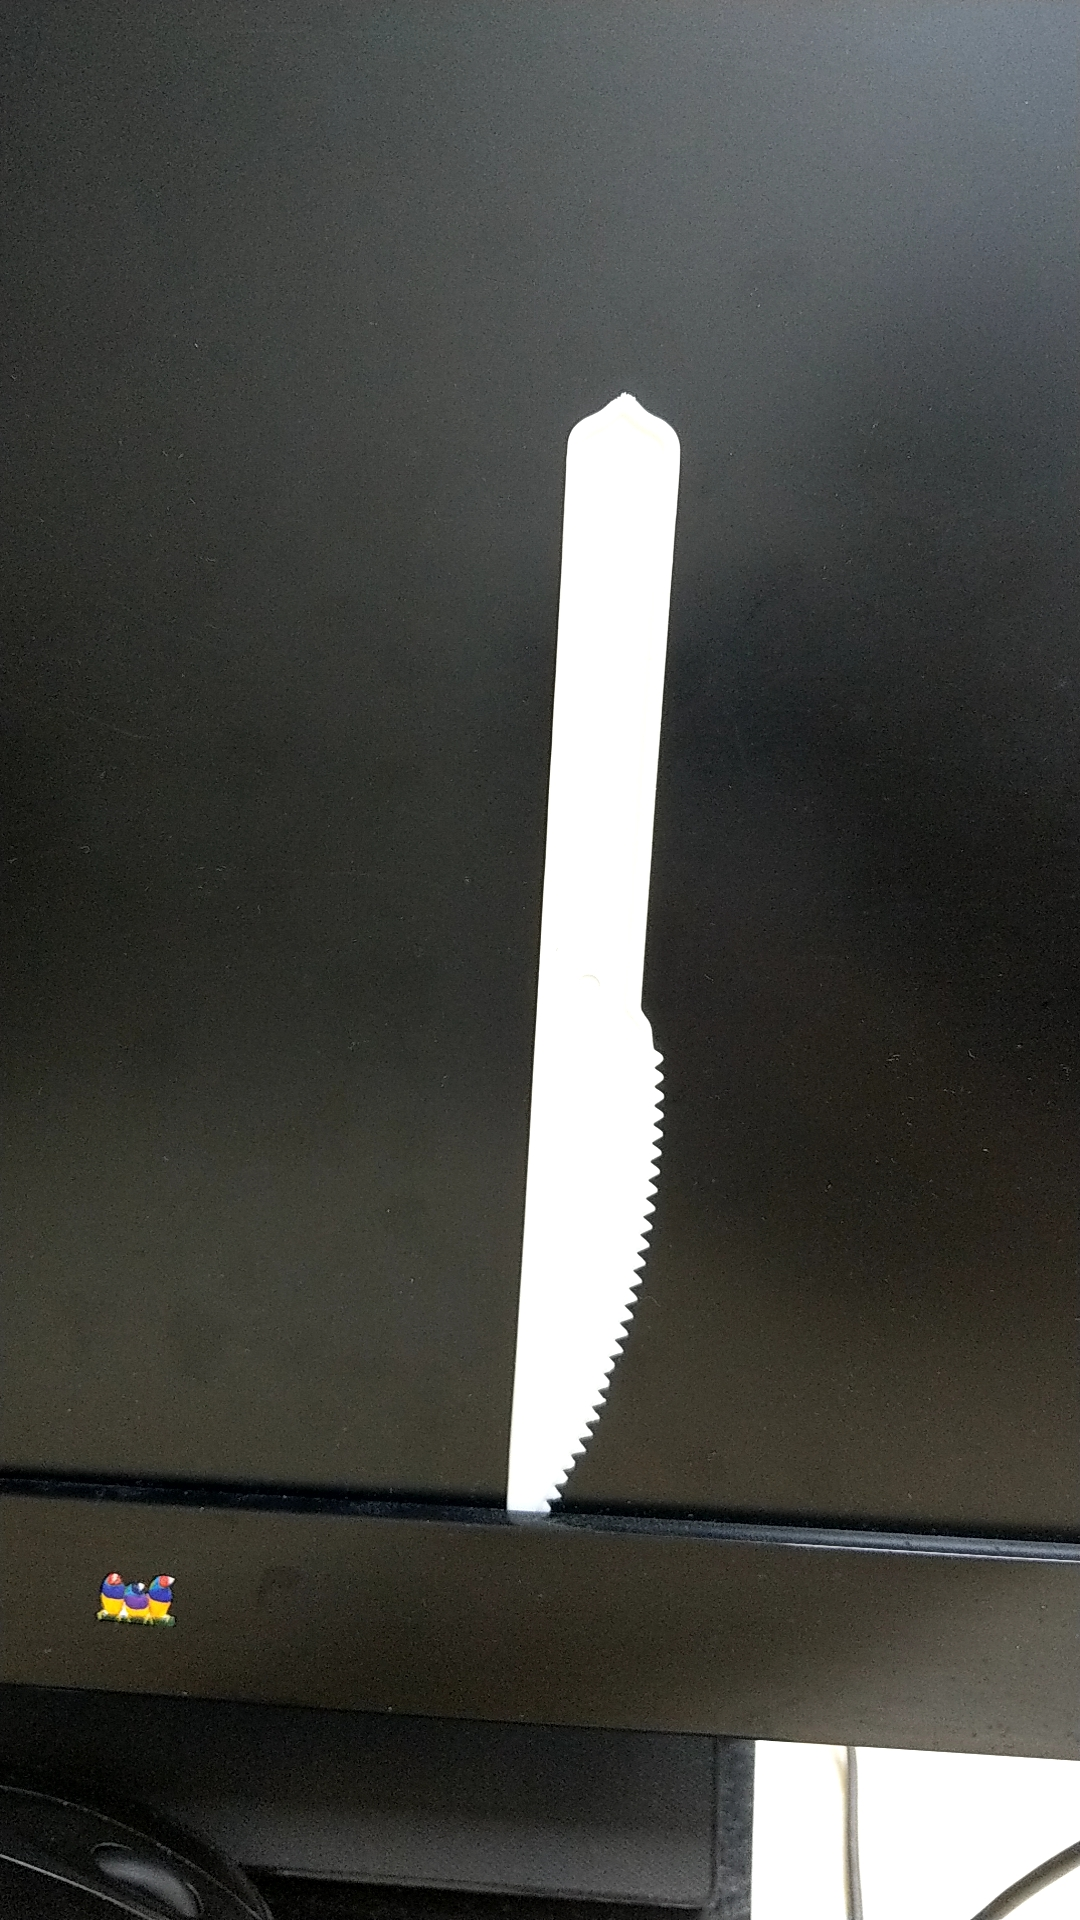knife: (487, 339, 698, 1507)
